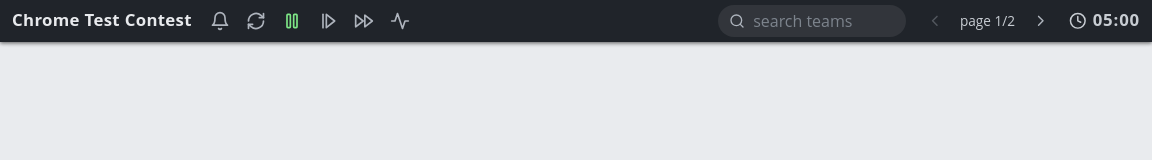
Scenario: Header › shows the page navigation only when pagination is on
Check: the text "page 1/2" is shown, box [960,11,1015,30]
Check: the button named "Previous page" is disabled, box [918,5,950,37]
Click the button named "Next page" at (1041, 21), box [1025,5,1057,37]
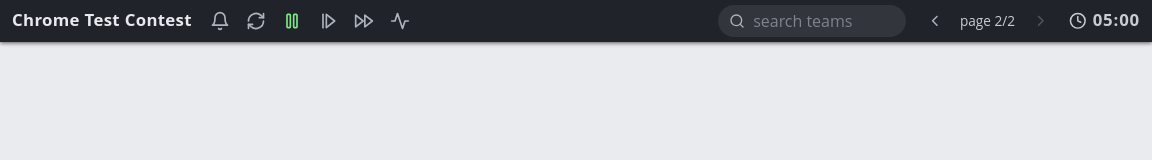
Check: the text "page 2/2" is shown, box [960,11,1015,30]
Click the button named "Previous page" at (934, 21), box [918,5,950,37]
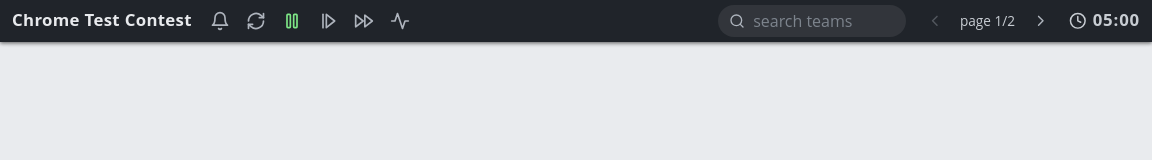
Check: the text "page 1/2" is shown, box [960,11,1015,30]
